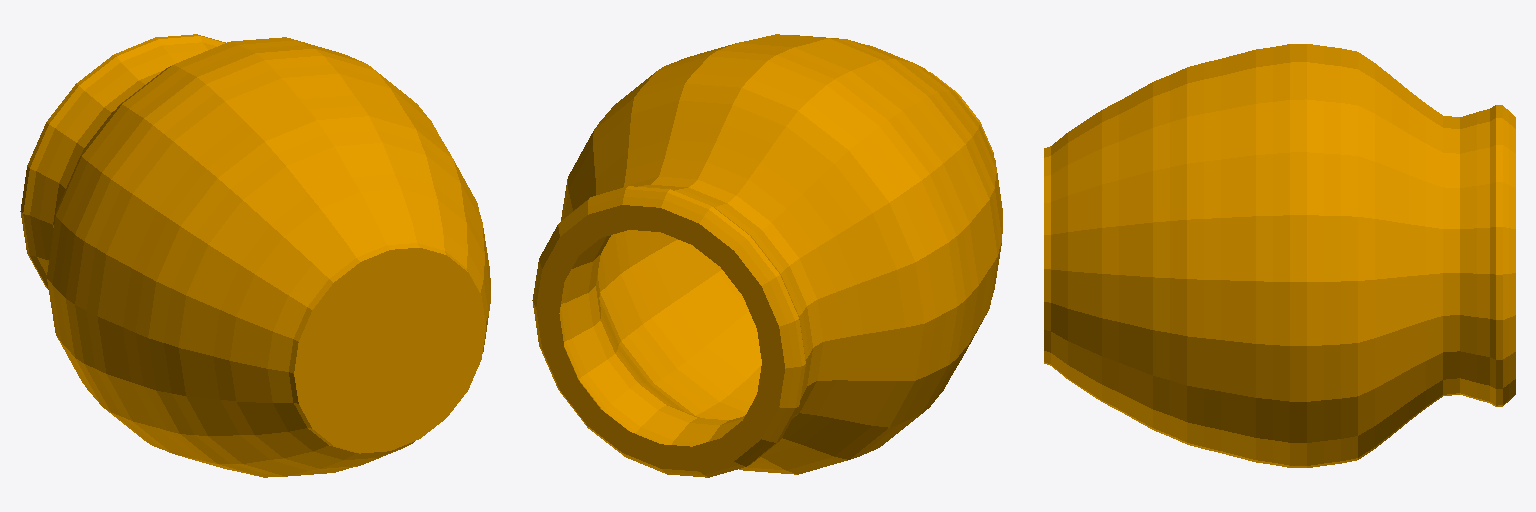
URDF robot description (none):
<robot name="none">
       <link name="none">
           <visual>
               <origin rpy="0 0 0 " xyz="0 0 0"/>
               <geometry>
                   <mesh filename="1.obj" scale="0.002 0.002 0.002"/>
               </geometry>
           </visual>
          <collision>
<origin rpy="1.57 0 0" xyz="0 0 0.25" />
              <geometry>
                  <box size="0.5008703 1.000000 0.508704" />
              </geometry>
          </collision>

          <inertial>
            <mass value="0.0" />
            <inertia ixx="0.01" ixy="0.0" ixz="0.0" iyy="0.01" iyz="0.0" izz="0.01"/>
          </inertial>
      </link>
  </robot>

--- What the picture shows (computed from the rendered views, not written in the file) ---
The picture shows the robot from 3 angles, left to right: view 1: azimuth 30°, elevation 25°; view 2: azimuth 150°, elevation 25°; view 3: azimuth 270°, elevation 25°; orthographic projection.
Robot: none — 1 links, 0 joints (none); root link none; default pose: all joints at 0.
Links seen in each view (by area): view 1: none; view 2: none; view 3: none.
Link boxes in pixels (x1=…): none: x1=20, y1=34, x2=490, y2=477; none: x1=532, y1=34, x2=1002, y2=477; none: x1=1044, y1=44, x2=1515, y2=467.
Size in the robot's own frame: 0.0031 by 0.0034 by 0.0031 metres.
Meshes: 1 distinct files referenced, 1 mesh visuals loaded (1 OBJ).
